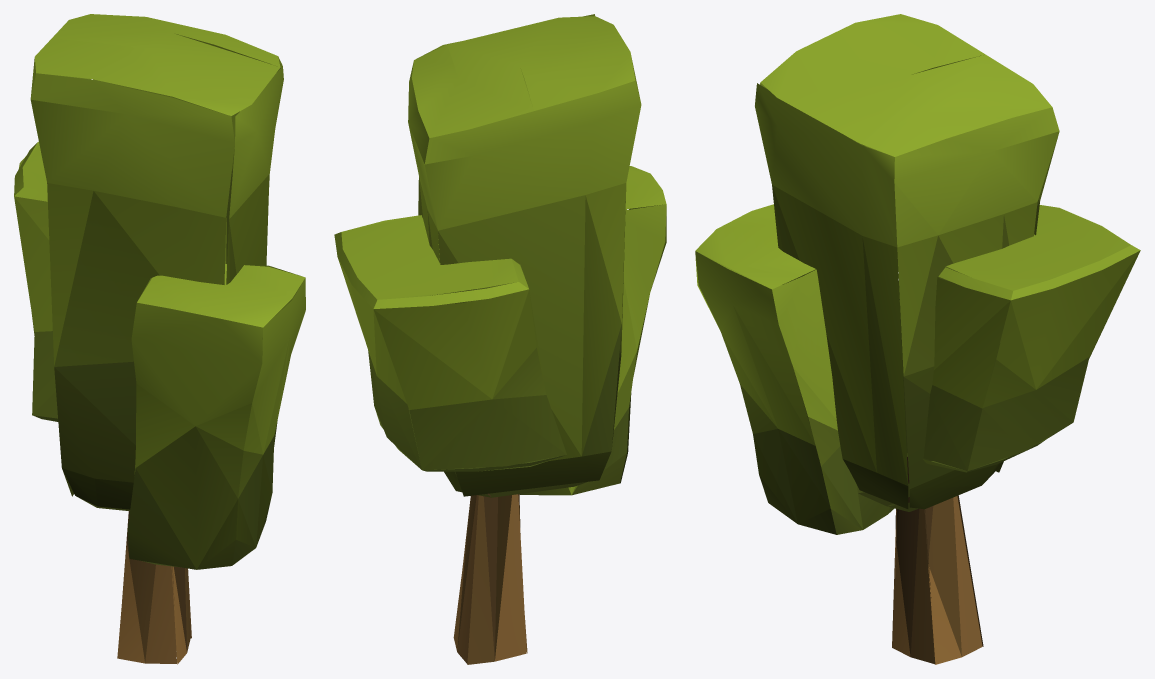
Rendered from angular_tree_block__summer_low.glb.
3 renders of one model, left to right at view 1: azimuth 30°, elevation 25°; view 2: azimuth 150°, elevation 25°; view 3: azimuth 270°, elevation 25°, orthographic. The views are drawn at different scales.
Bounding box in the file's own units: 2.14 × 4.8 × 3.36.
